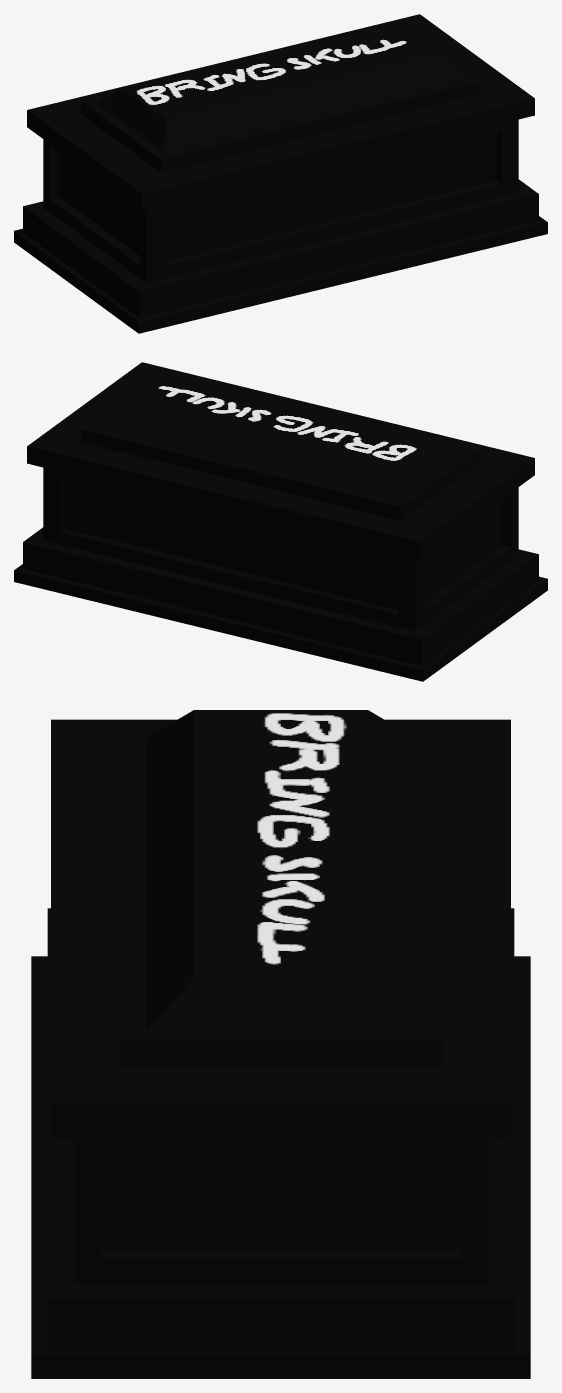
File: coso.fbx
3 renders of one model, top to bottom at view 1: azimuth 30°, elevation 25°; view 2: azimuth 150°, elevation 25°; view 3: azimuth 270°, elevation 25°, orthographic. The views are drawn at different scales.
Parts seen in each view (by area): view 1: SD_Prop_Stone_Coffin_01, SD_Prop_Stone_Coffin_Lid; view 2: SD_Prop_Stone_Coffin_01, SD_Prop_Stone_Coffin_Lid; view 3: SD_Prop_Stone_Coffin_Lid, SD_Prop_Stone_Coffin_01.
Part boxes in pixels (bbox=[...]): SD_Prop_Stone_Coffin_01: bbox=[14, 119, 547, 333]; SD_Prop_Stone_Coffin_Lid: bbox=[27, 14, 534, 211]; SD_Prop_Stone_Coffin_01: bbox=[14, 467, 547, 681]; SD_Prop_Stone_Coffin_Lid: bbox=[27, 362, 534, 559]; SD_Prop_Stone_Coffin_Lid: bbox=[51, 710, 510, 1137]; SD_Prop_Stone_Coffin_01: bbox=[31, 908, 530, 1378].
Size of the model in its own units: 52.64 by 20.63 by 27.83.
1 material, 1 textured.
